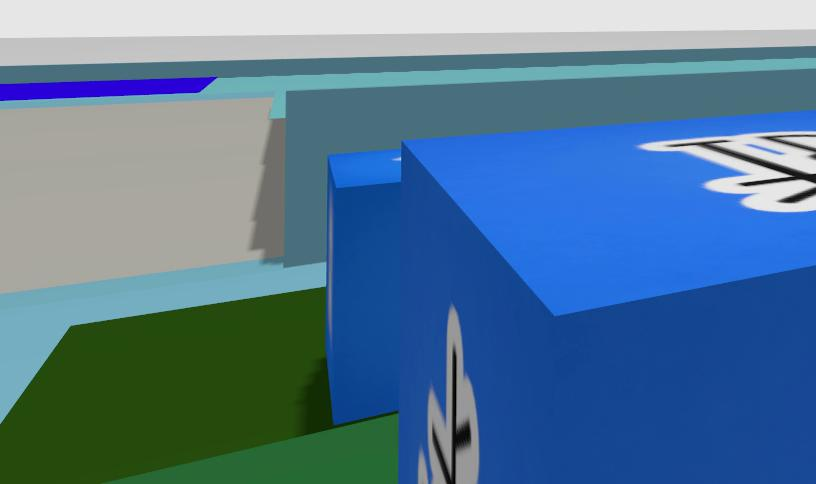KFS_REAL: (640, 132, 815, 213), (417, 306, 479, 483)
